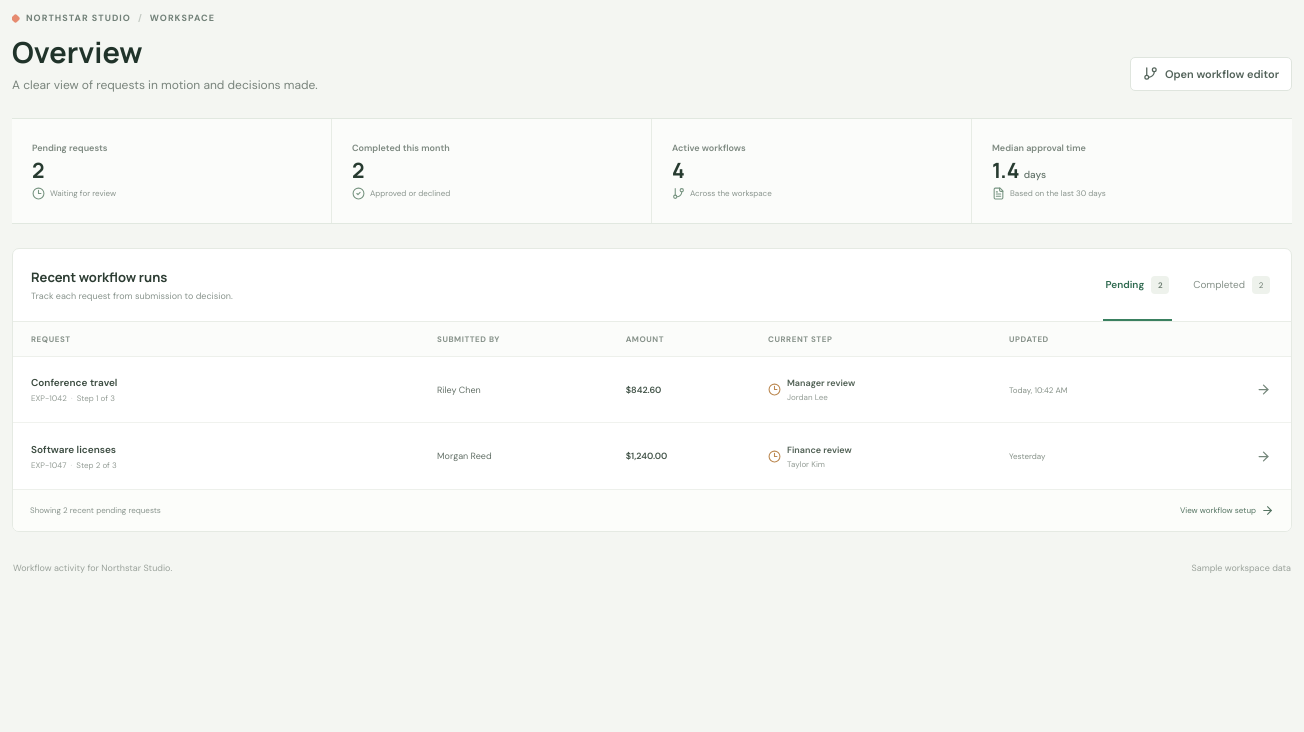
Test: workflow overview › shows pending runs by default and filters completed decisions
Expected: the text "Conference travel" is shown, [31,376,117,389]
Expected: the text "Laptop replacement" is not shown
Click the tab "Completed 2".
click(1232, 285)  # box [1190,261,1273,309]
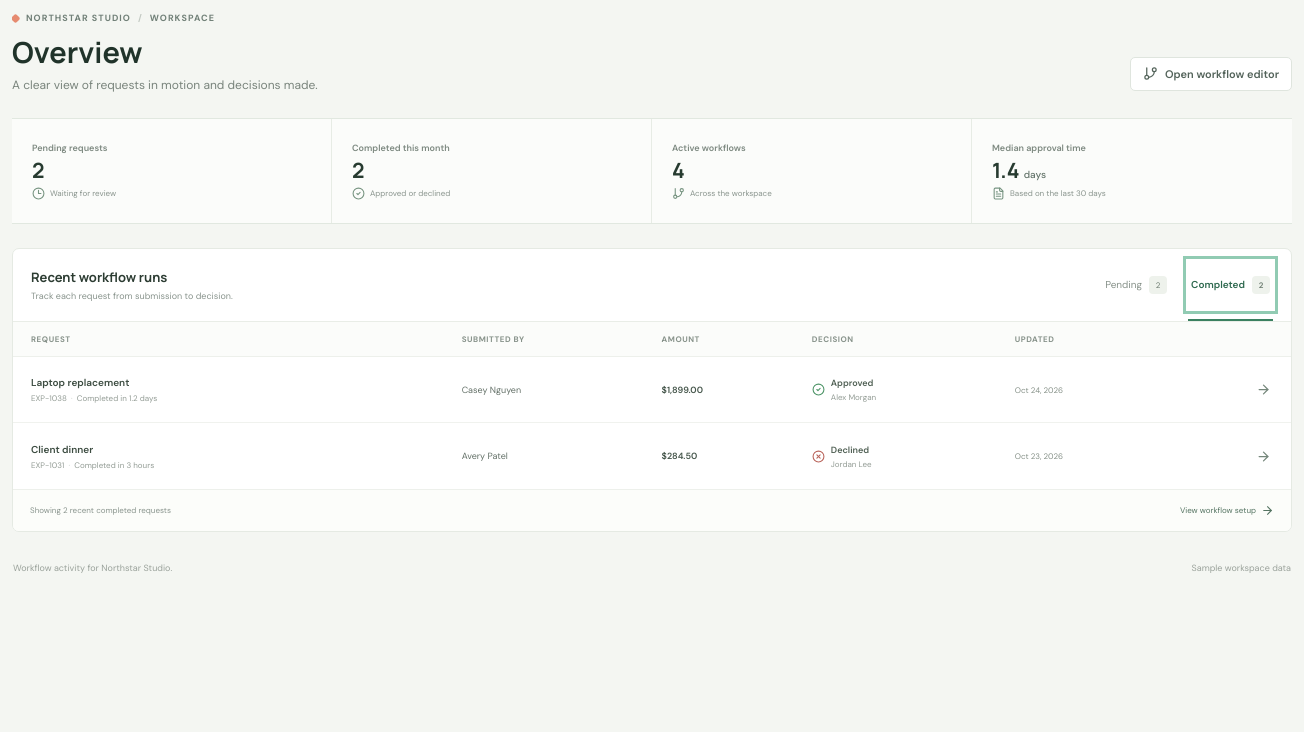
Expected: the text "Laptop replacement" is shown, [31,376,129,389]
Expected: the text "Client dinner" is shown, [31,442,93,456]
Expected: the text "Conference travel" is gone
